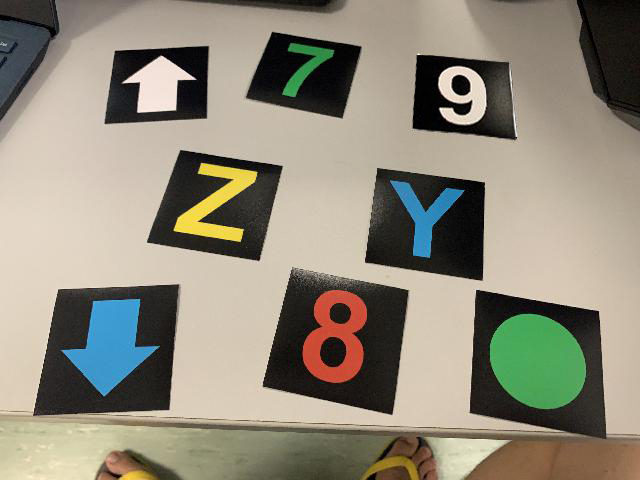alphabet_y: (361, 165, 488, 284)
alphabet_z: (145, 147, 287, 264)
down_arrow: (31, 282, 182, 420)
eight: (261, 265, 411, 418)
go: (468, 288, 610, 441)
nine: (412, 54, 519, 144)
seven: (245, 29, 365, 123)
up_arrow: (102, 43, 212, 126)
